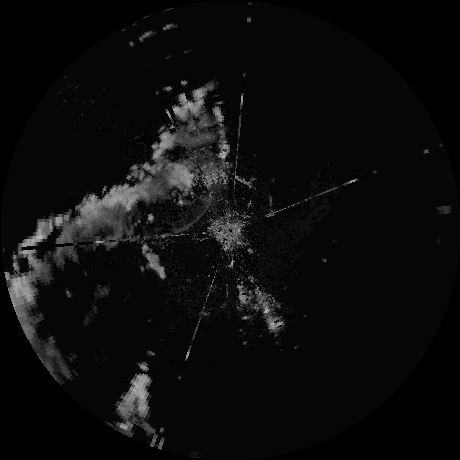frontgust: (174, 197, 211, 231)
